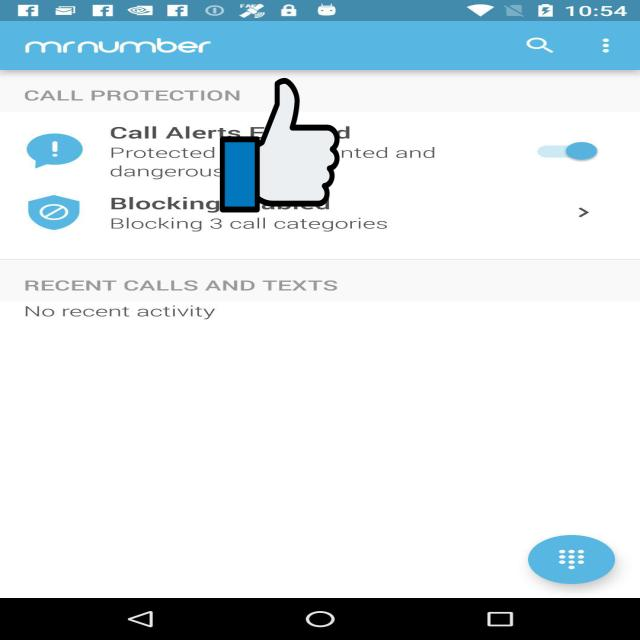privacy zuckering: (220, 75, 339, 215)
